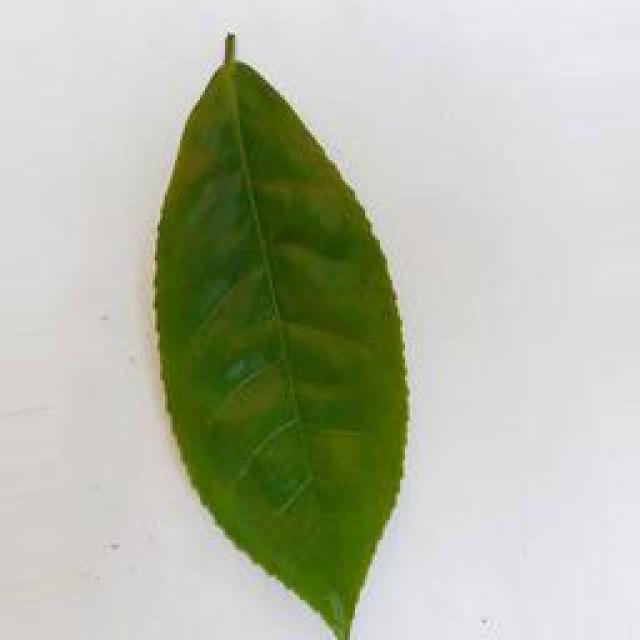Healthy: (144, 27, 420, 640)
